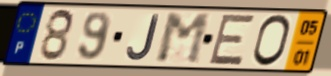8: (37, 7, 77, 63)
9: (77, 10, 112, 63)
E: (206, 12, 258, 67)
J: (126, 13, 162, 62)
M: (155, 12, 212, 66)
O: (250, 13, 293, 69)
